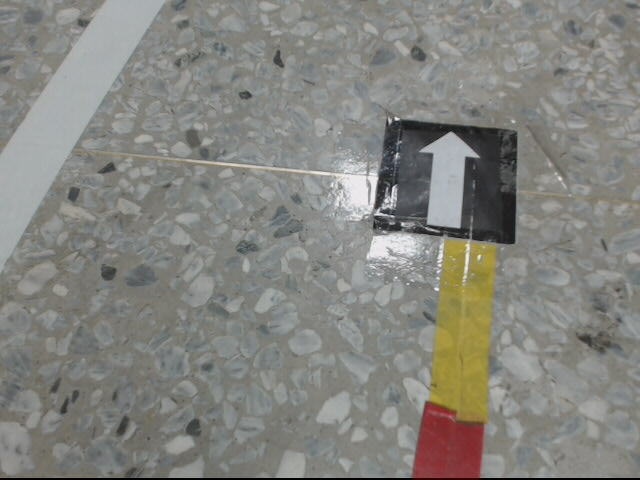straight: (370, 118, 522, 248)
